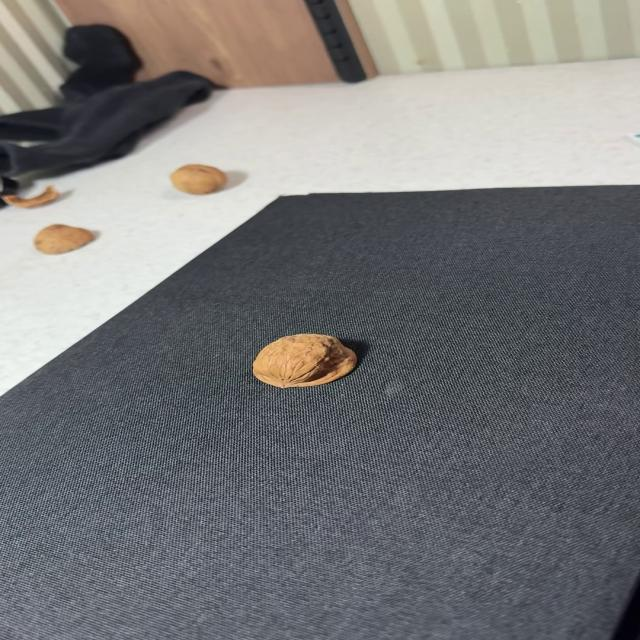nuts-bad0.5: (253, 334, 357, 388)
